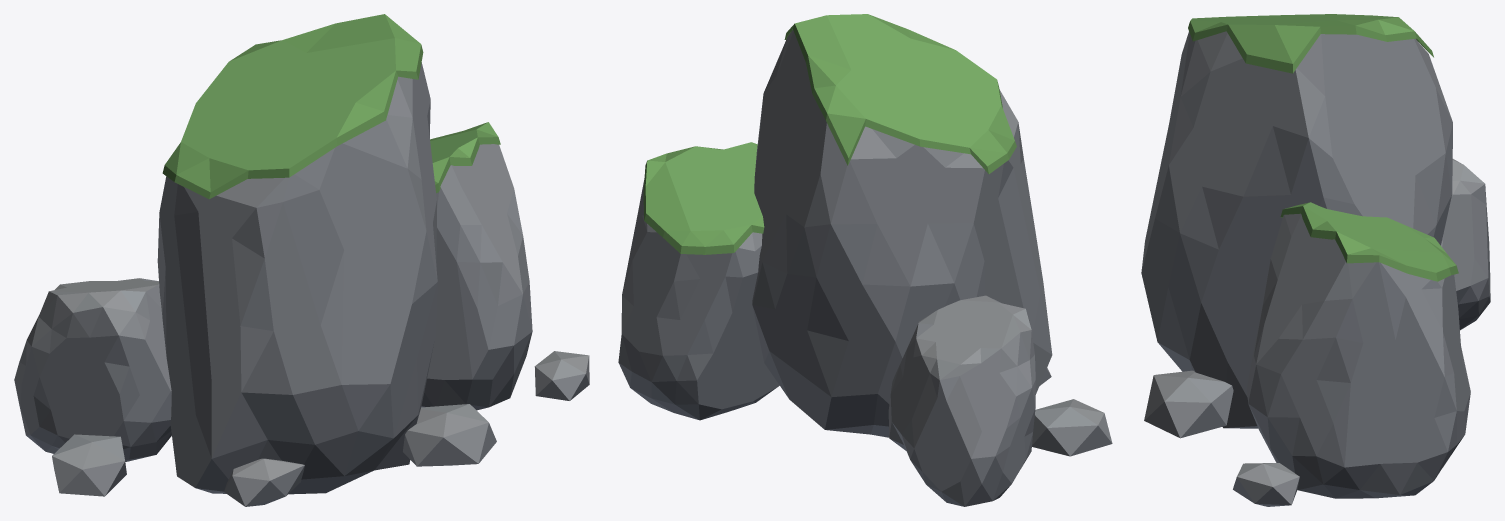
File: rock.glb
3 renders of one model, left to right at view 1: azimuth 30°, elevation 25°; view 2: azimuth 150°, elevation 25°; view 3: azimuth 270°, elevation 25°, orthographic. The views are drawn at different scales.
Parts seen in each view (by area): view 1: rock0, rock0_moss, rock2, rock1, pebble51, pebble59, pebble53, pebble57, rock1_moss; view 2: rock0, rock2, rock1, rock0_moss, rock1_moss, pebble59; view 3: rock0, rock1, rock0_moss, rock1_moss, rock2, pebble51, pebble57.
Part boxes in pixels (x1,y1,x2,y2): rock0: (157,62,437,494); rock0_moss: (162,14,423,199); rock2: (14,278,171,461); rock1: (421,144,532,410); pebble51: (403,404,496,466); pebble59: (52,434,126,496); pebble53: (224,458,304,506); pebble57: (534,351,589,400); rock1_moss: (430,122,500,193); rock0: (752,30,1052,437); rock2: (888,295,1035,506); rock1: (618,178,779,420); rock0_moss: (784,14,1016,173); rock1_moss: (643,142,764,254); pebble59: (1032,399,1112,456); rock0: (1141,31,1452,428); rock1: (1247,213,1470,498); rock0_moss: (1188,14,1433,73); rock1_moss: (1280,202,1458,281); rock2: (1441,159,1490,330); pebble51: (1144,370,1233,438); pebble57: (1233,463,1299,506).
Size of the model in its own units: 5.22 by 3.95 by 3.02.
